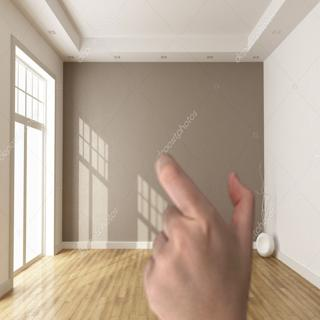Irritated: (136, 155, 264, 316)
